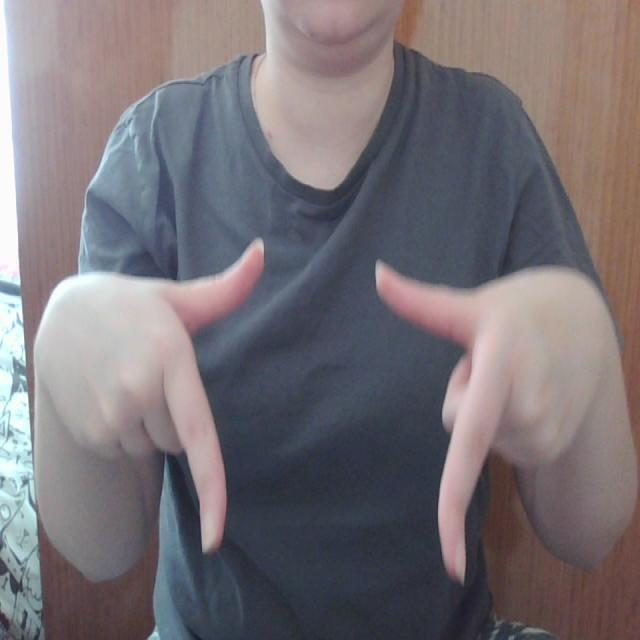Nerede: (134, 230, 541, 586)
